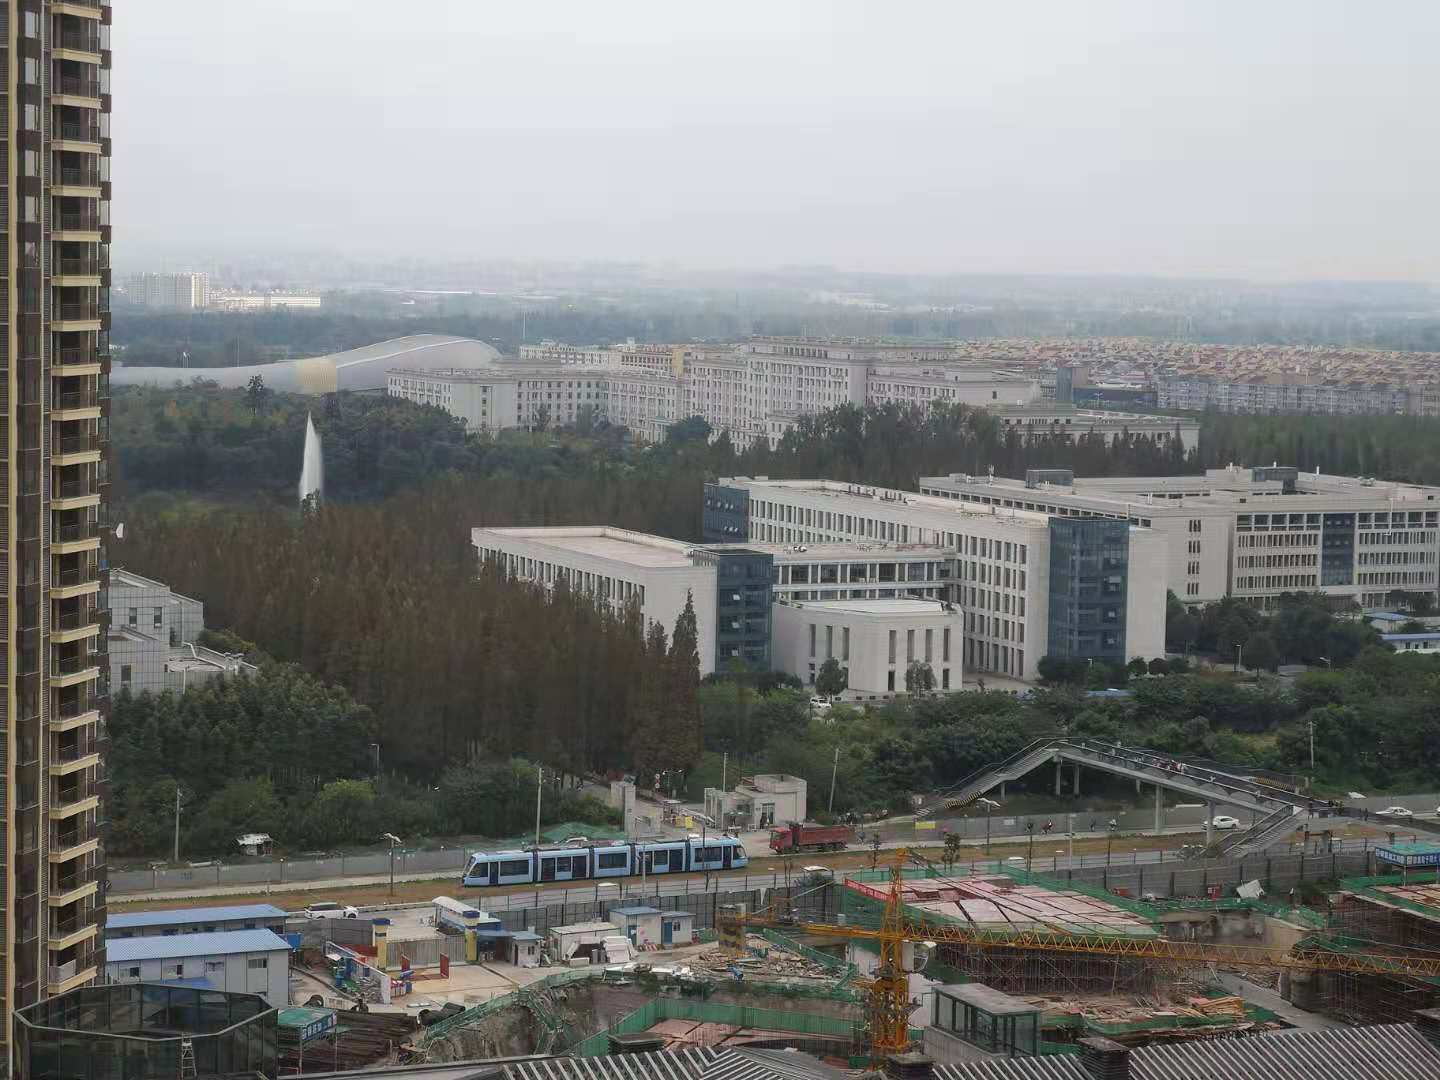car: (461, 836, 752, 883)
